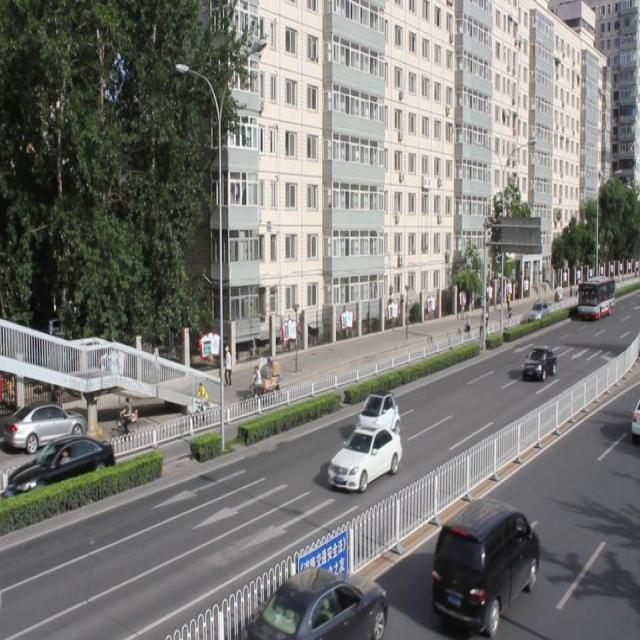car: (433, 494, 538, 626), (250, 560, 386, 640), (0, 432, 114, 502), (328, 422, 402, 489), (352, 390, 399, 440), (520, 345, 556, 380)
